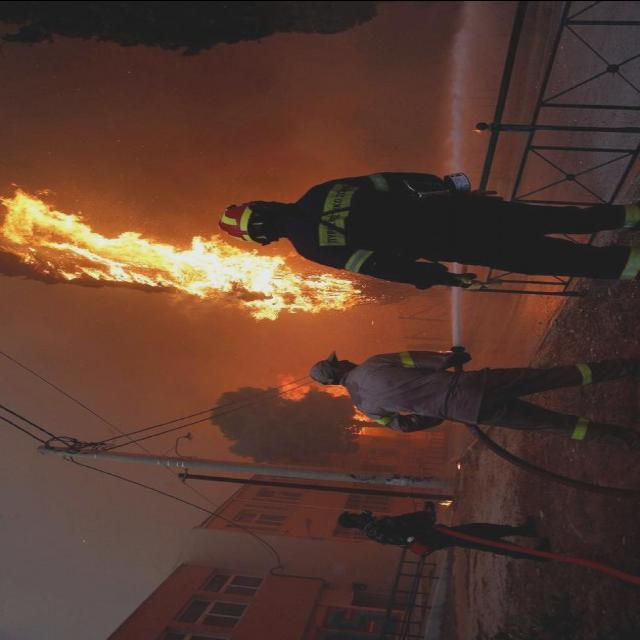Fire: (8, 180, 371, 326), (260, 370, 380, 436)
